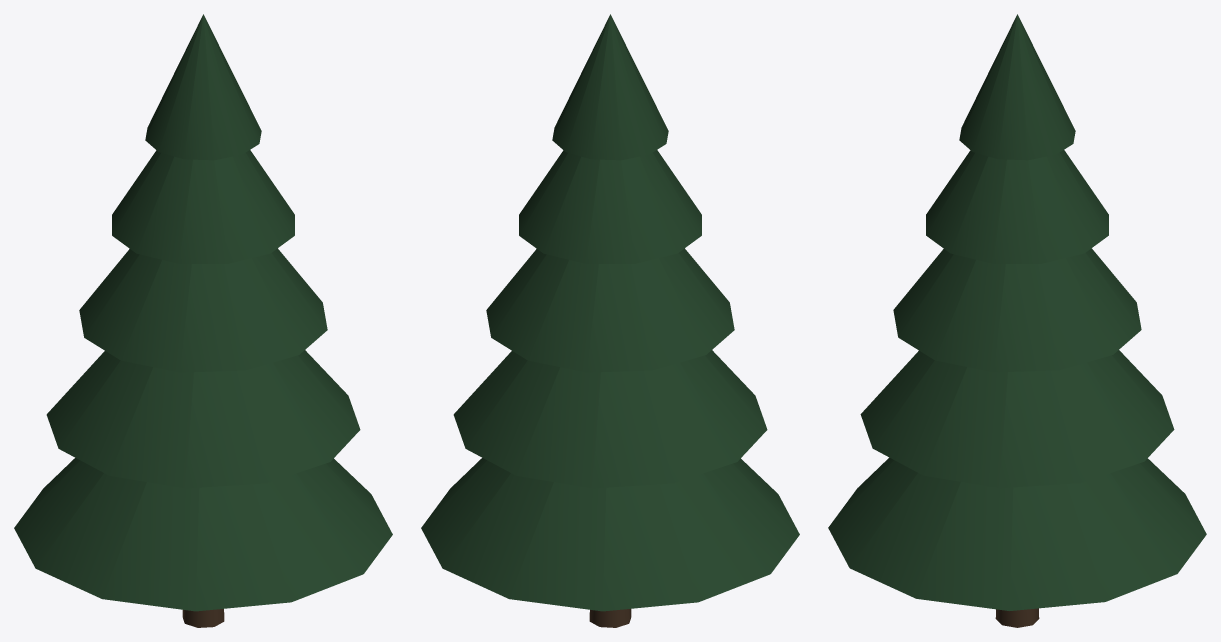
File: pine-2.glb
3 renders of one model, left to right at view 1: azimuth 30°, elevation 25°; view 2: azimuth 150°, elevation 25°; view 3: azimuth 270°, elevation 25°, orthographic.
Visible parts, largest first — view 1: pine; view 2: pine; view 3: pine.
Boxes of the visible parts, x1,y1,x2,y2 form: pine: [14, 14, 392, 627]; pine: [421, 14, 799, 627]; pine: [828, 14, 1206, 627].
Size of the model in its own units: 8.63 by 15.21 by 8.63.
